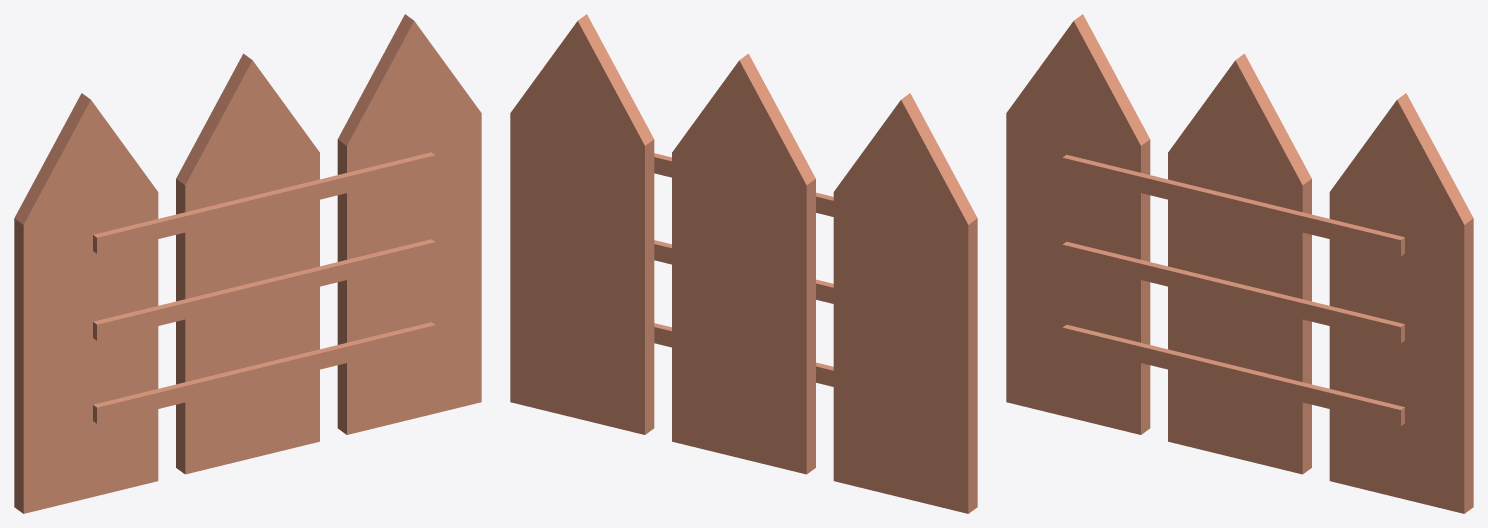
The model's file is SM_Fence2.fbx.
The picture shows the model from 3 angles, left to right: view 1: azimuth 30°, elevation 25°; view 2: azimuth 150°, elevation 25°; view 3: azimuth 330°, elevation 25°; orthographic projection.
Parts seen in each view (by area): view 1: Cube.001; view 2: Cube.001; view 3: Cube.001.
Boxes of the visible parts, bbox=[...] form: Cube.001: bbox=[14, 14, 481, 513]; Cube.001: bbox=[510, 14, 977, 513]; Cube.001: bbox=[1006, 14, 1473, 513].
Bounding box in the file's own units: 680 × 564 × 46.11.
